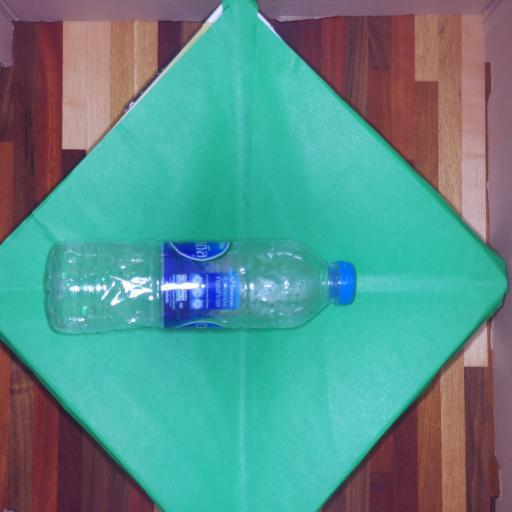bottle: (32, 224, 370, 344)
